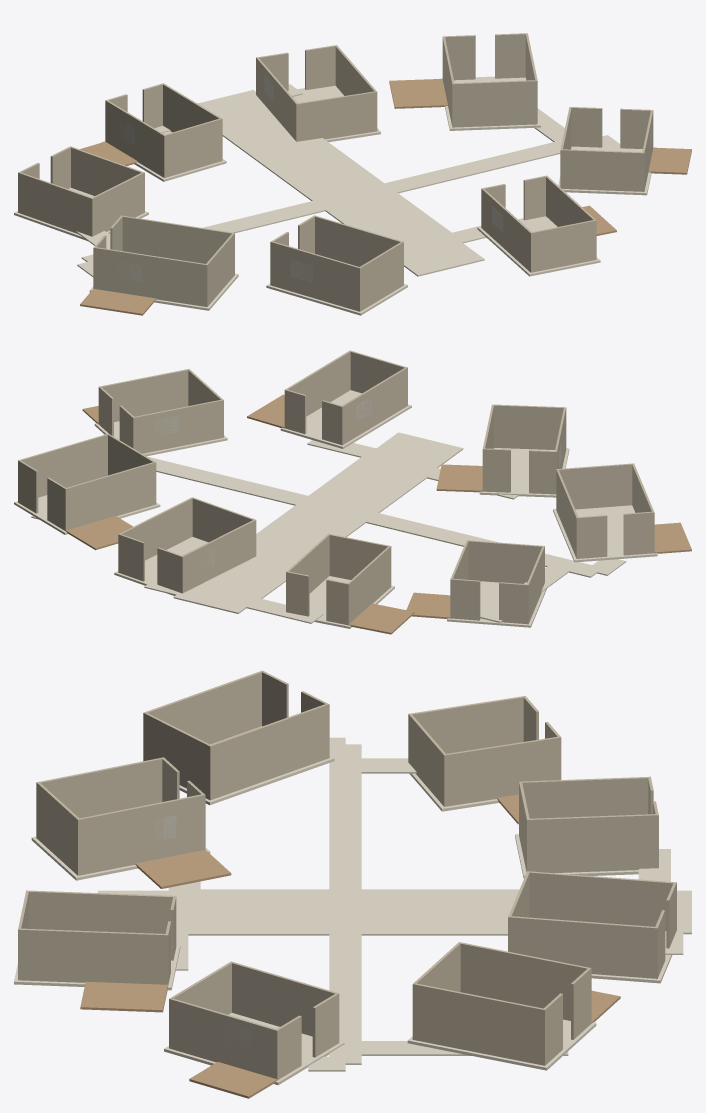
Rendered from retreat-village.glb.
3 views of the same model, one above another, from view 1: azimuth 30°, elevation 25°; view 2: azimuth 150°, elevation 25°; view 3: azimuth 270°, elevation 25° (orthographic). The views are drawn at different scales.
Visible parts, largest first — view 1: board and batten, stone (×2), timber, glass; view 2: board and batten, stone (×2), timber; view 3: board and batten, stone (×2), timber.
Part boxes in pixels (bbox=[...]): board and batten: bbox=[18, 33, 653, 311]; stone (×2): bbox=[14, 76, 656, 315]; timber: bbox=[79, 78, 691, 315]; glass: bbox=[121, 76, 650, 282]; board and batten: bbox=[18, 350, 654, 625]; stone (×2): bbox=[14, 390, 657, 628]; timber: bbox=[66, 394, 691, 634]; board and batten: bbox=[18, 670, 676, 1080]; stone (×2): bbox=[14, 726, 691, 1085]; timber: bbox=[80, 794, 620, 1098].
Size of the model in its own units: 37.11 by 3.96 by 27.4.
